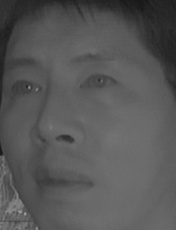eye: (78, 69, 118, 96), (8, 77, 44, 98)
mouth: (29, 160, 95, 202)
